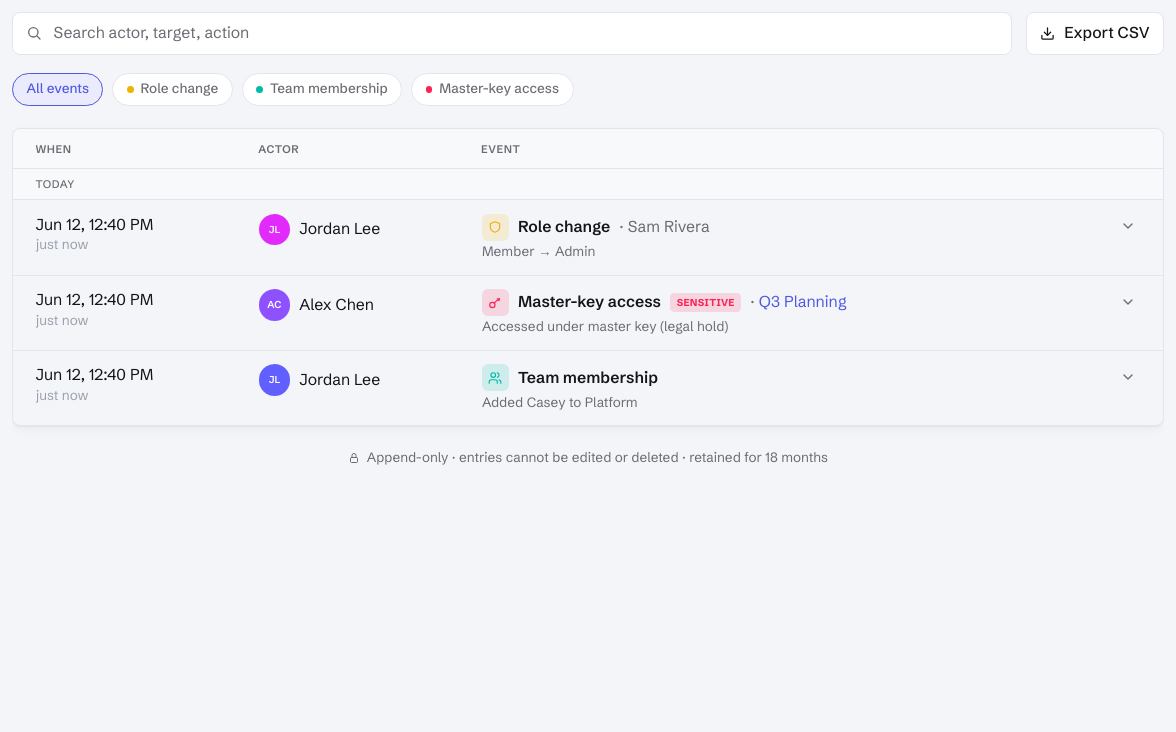
Test: AuditLogClient › expands a row to reveal its detail panel
Click the button named "expand detail" in the row of "Q3 Planning": [1128, 302] box [1116,289,1140,314]
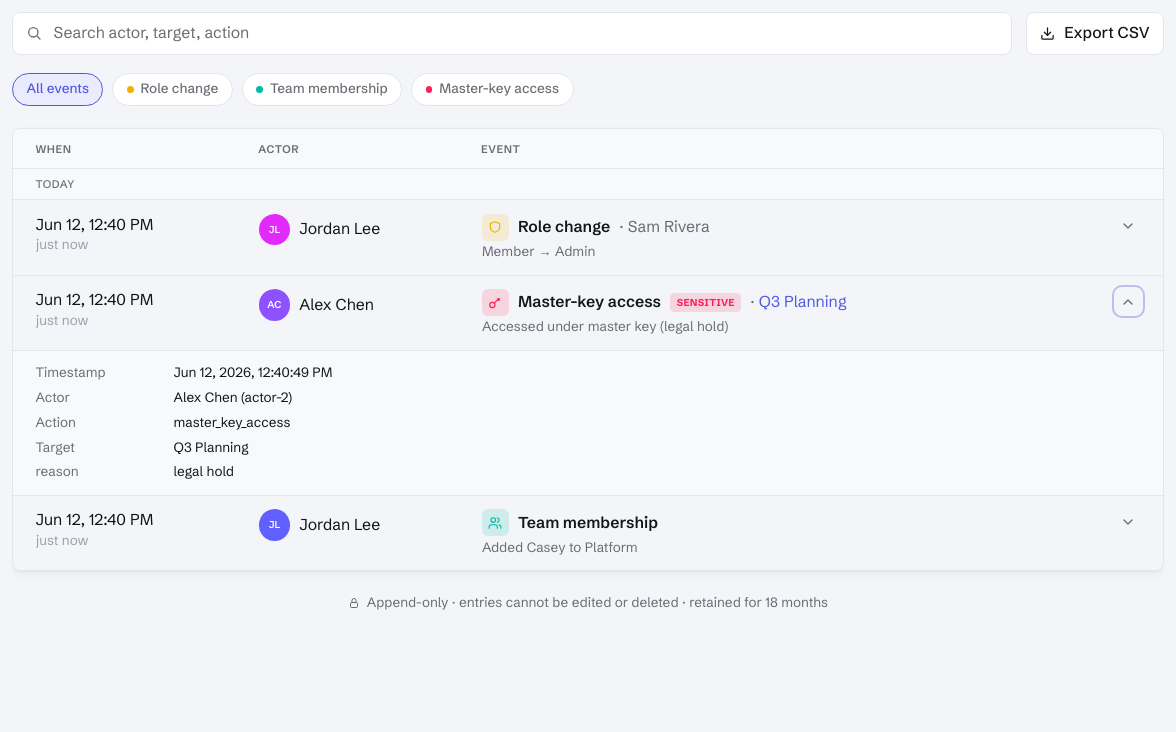
Expected: the text "Action" is shown, [36,414,76,430]
Expected: the text "reason" is shown, [36,463,79,479]
